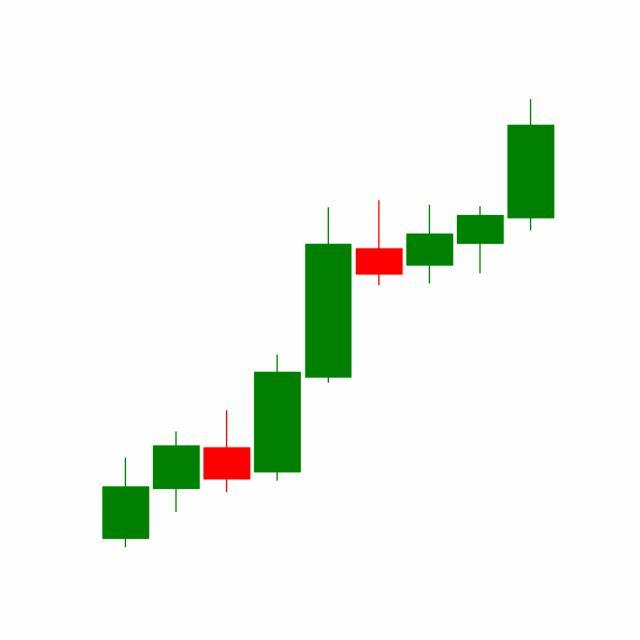Hikkake Pattern: (302, 99, 555, 387)
